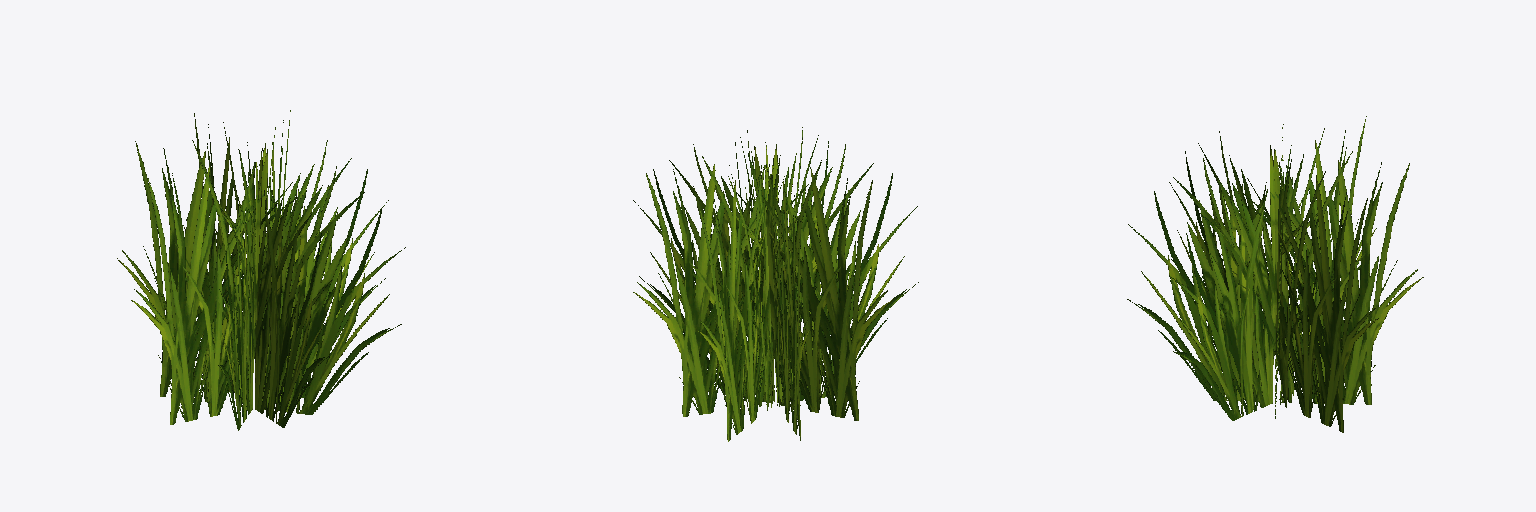
3 views of the same model, side by side, from view 1: azimuth 30°, elevation 25°; view 2: azimuth 150°, elevation 25°; view 3: azimuth 270°, elevation 25° (orthographic).
Parts seen in each view (by area): view 1: grass.001, grass; view 2: grass.001, grass; view 3: grass, grass.001.
Boxes of the visible parts, x1,y1,x2,y2 form: grass.001: [131, 113, 388, 427]; grass: [117, 110, 405, 430]; grass.001: [633, 127, 893, 441]; grass: [633, 130, 918, 440]; grass: [1169, 116, 1378, 432]; grass.001: [1127, 124, 1423, 418].
Size of the model in its own units: 12.59 by 12.58 by 12.53.
Materials: 1 (1 with a texture image).